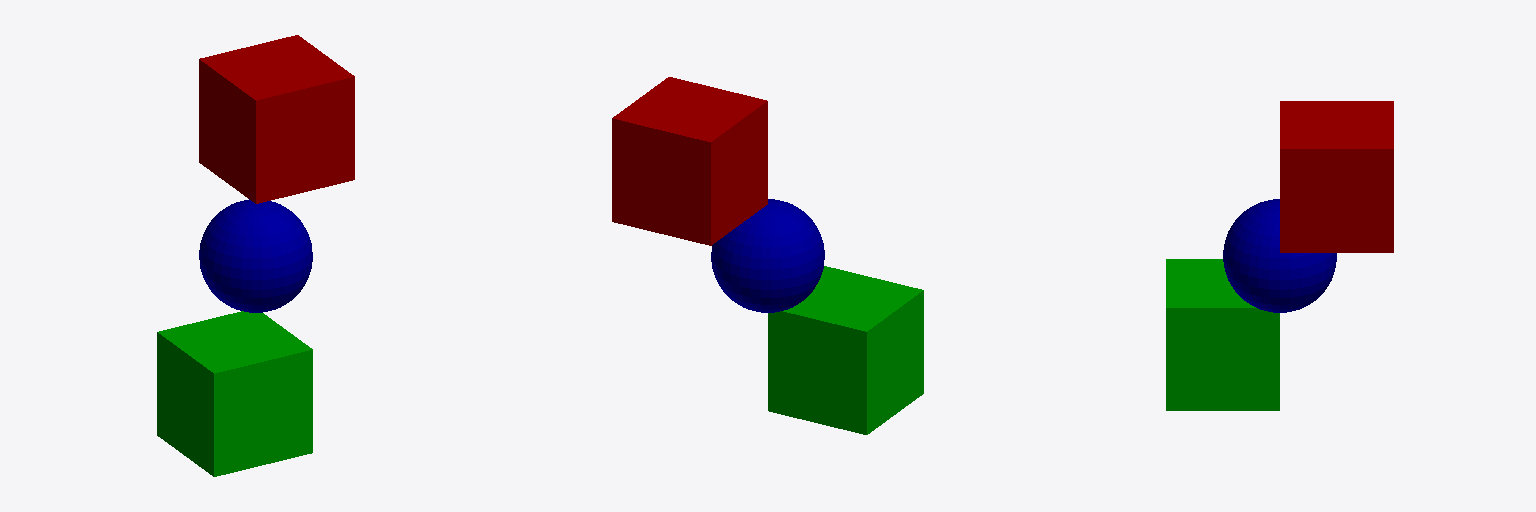
File: occlusion.obj
3 views of the same model, side by side, from view 1: azimuth 30°, elevation 25°; view 2: azimuth 150°, elevation 25°; view 3: azimuth 270°, elevation 25° (orthographic).
Parts seen in each view (by area): view 1: Cube, Cube.001, Sphere; view 2: Cube, Cube.001, Sphere; view 3: Cube, Cube.001, Sphere.
Boxes of the visible parts, x1=… form: Cube: x1=199, y1=35, x2=354, y2=203; Cube.001: x1=157, y1=311, x2=312, y2=476; Sphere: x1=199, y1=199, x2=312, y2=312; Cube: x1=612, y1=77, x2=767, y2=245; Cube.001: x1=768, y1=266, x2=923, y2=434; Sphere: x1=711, y1=199, x2=824, y2=312; Cube: x1=1280, y1=101, x2=1393, y2=252; Cube.001: x1=1166, y1=259, x2=1279, y2=410; Sphere: x1=1223, y1=199, x2=1336, y2=312.
Bounding box in the file's own units: 4 × 6 × 4.